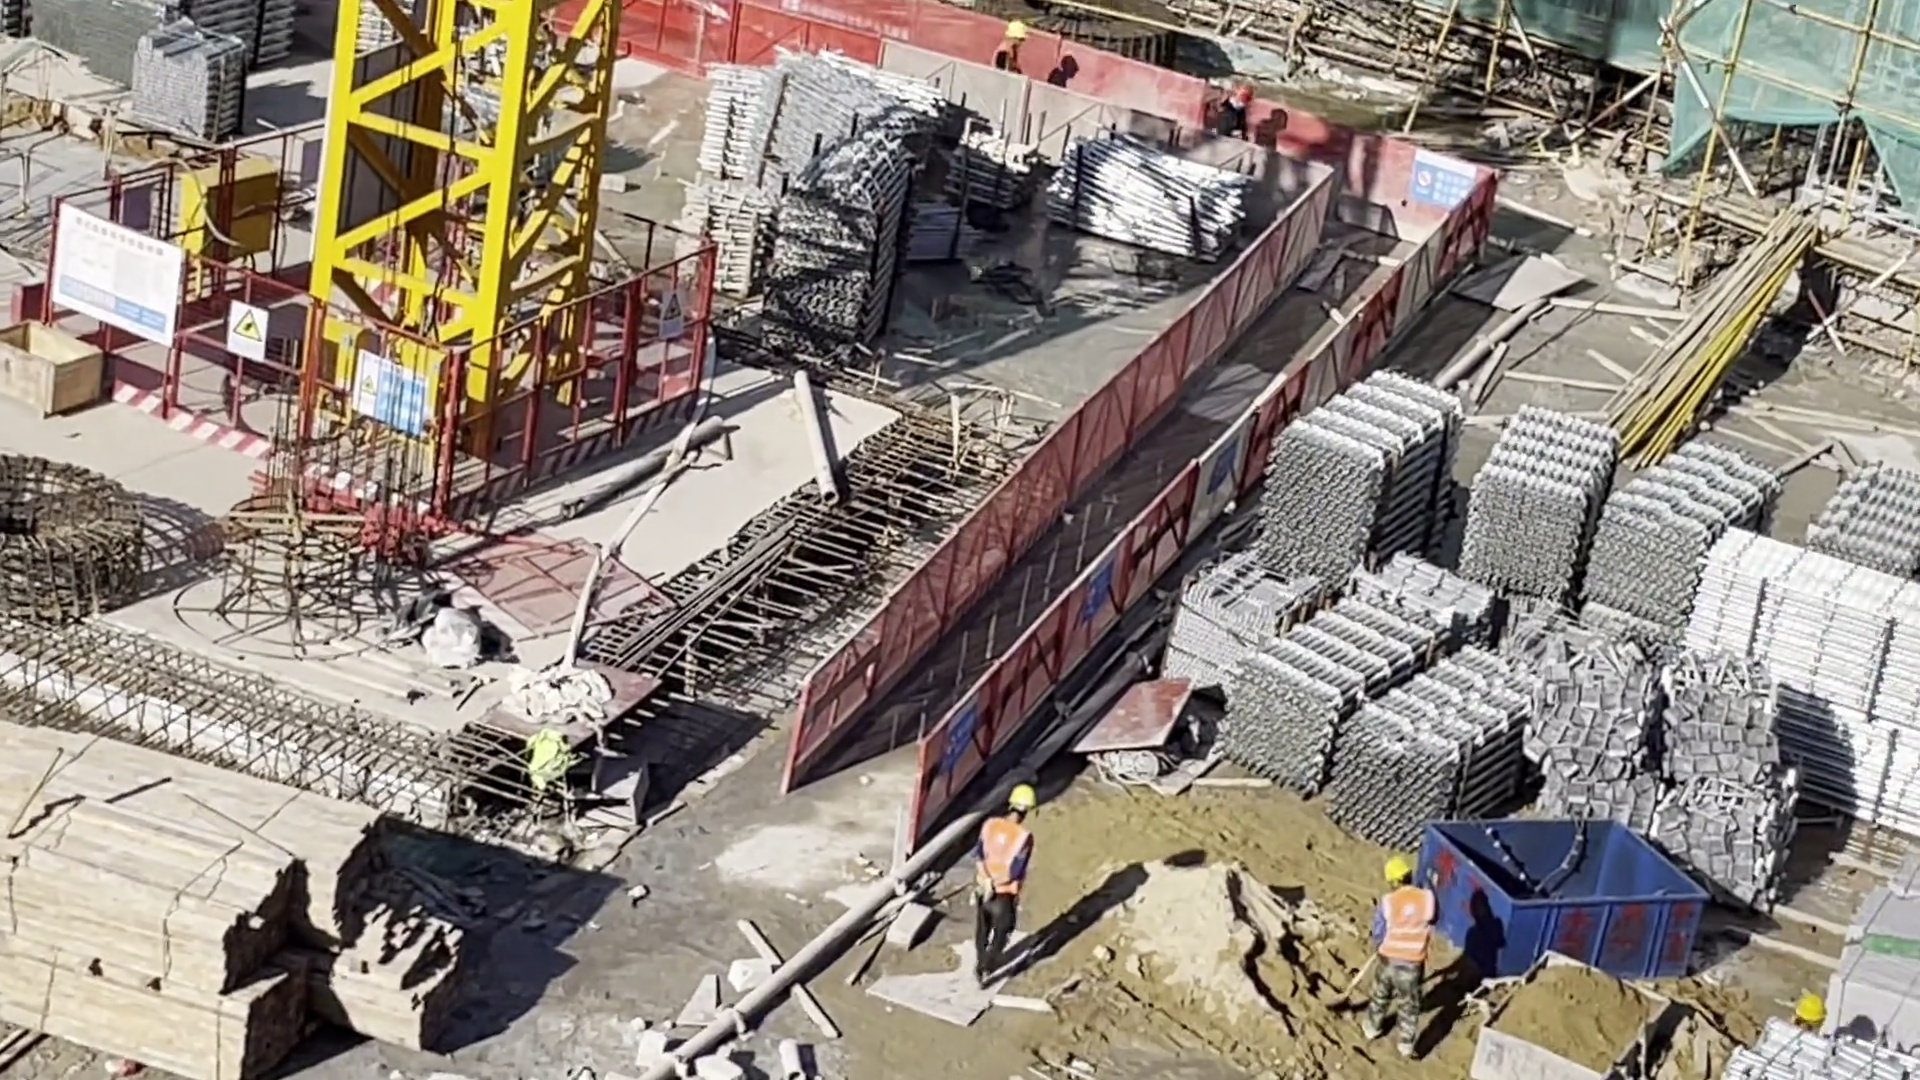brick: (1842, 853, 1920, 1012)
ebox: (186, 164, 273, 261)
fence: (924, 177, 1486, 845), (798, 174, 1329, 811), (866, 6, 1477, 249), (608, 1, 879, 77)
helmet: (1790, 995, 1821, 1024), (1384, 857, 1414, 881), (1012, 786, 1034, 808), (1005, 21, 1022, 42)
hopper: (1417, 814, 1709, 981), (1469, 941, 1679, 1080)
person: (1370, 856, 1429, 1060), (982, 785, 1033, 983), (1215, 80, 1254, 145), (990, 20, 1025, 77)
scaffold: (1683, 527, 1920, 829), (1220, 591, 1442, 796), (1320, 650, 1523, 838), (1270, 372, 1451, 579), (1585, 445, 1781, 624), (1469, 410, 1619, 607), (786, 145, 905, 347), (1051, 141, 1243, 257), (13, 1, 292, 76), (1813, 460, 1920, 575), (138, 29, 243, 138), (677, 181, 775, 295), (1725, 1033, 1910, 1080), (947, 131, 1035, 201), (700, 83, 763, 177)
slogan: (351, 358, 428, 433), (1412, 153, 1478, 207), (942, 705, 979, 773), (229, 304, 267, 359), (1086, 558, 1112, 620), (659, 291, 686, 338)
vest: (1379, 885, 1435, 966), (977, 818, 1029, 900)
wood: (1, 722, 374, 956), (1, 803, 294, 1078)
